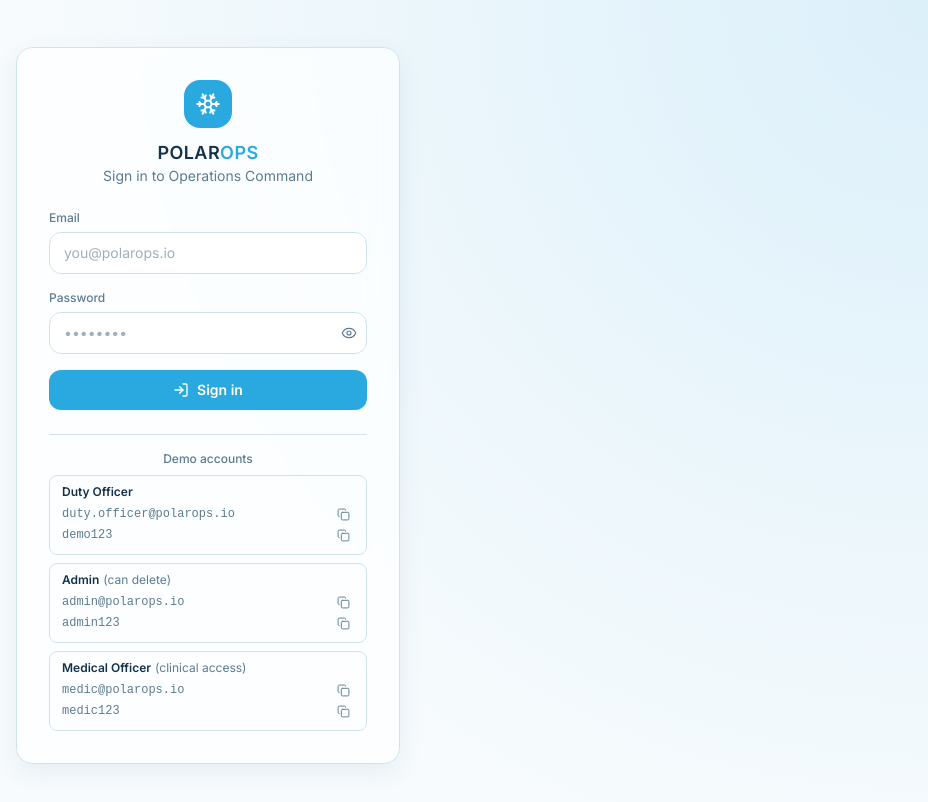
it: Login › shows a validation error for a malformed email
Step 1. Type "not-an-email" into the field labelled "Email" → [208, 252], box x1=49 y1=232 x2=367 y2=274
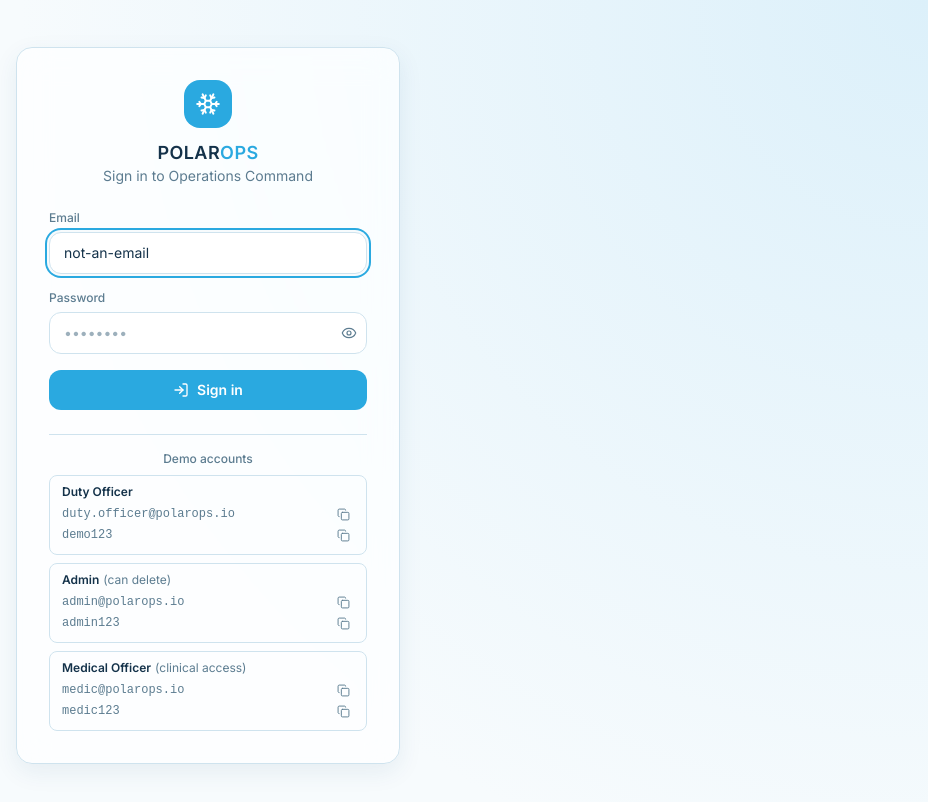
Step 2. Type "something" into the password field labelled "Password" → [208, 332], box x1=49 y1=312 x2=367 y2=354
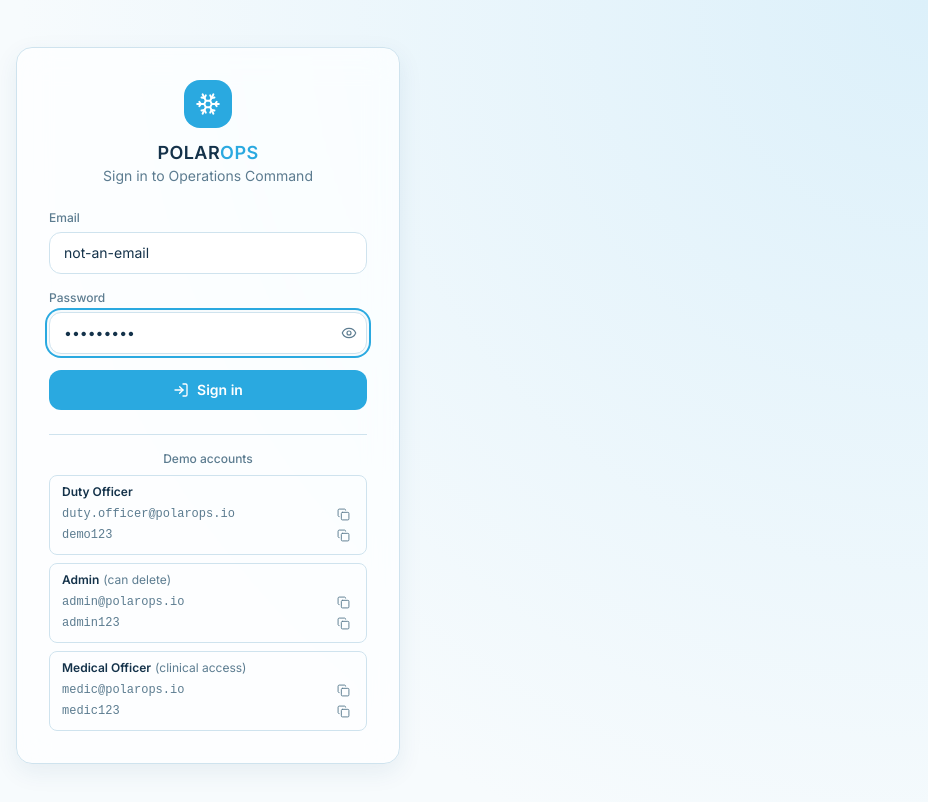
Step 3. Click the button "Sign in" → [208, 390], box x1=49 y1=370 x2=367 y2=410
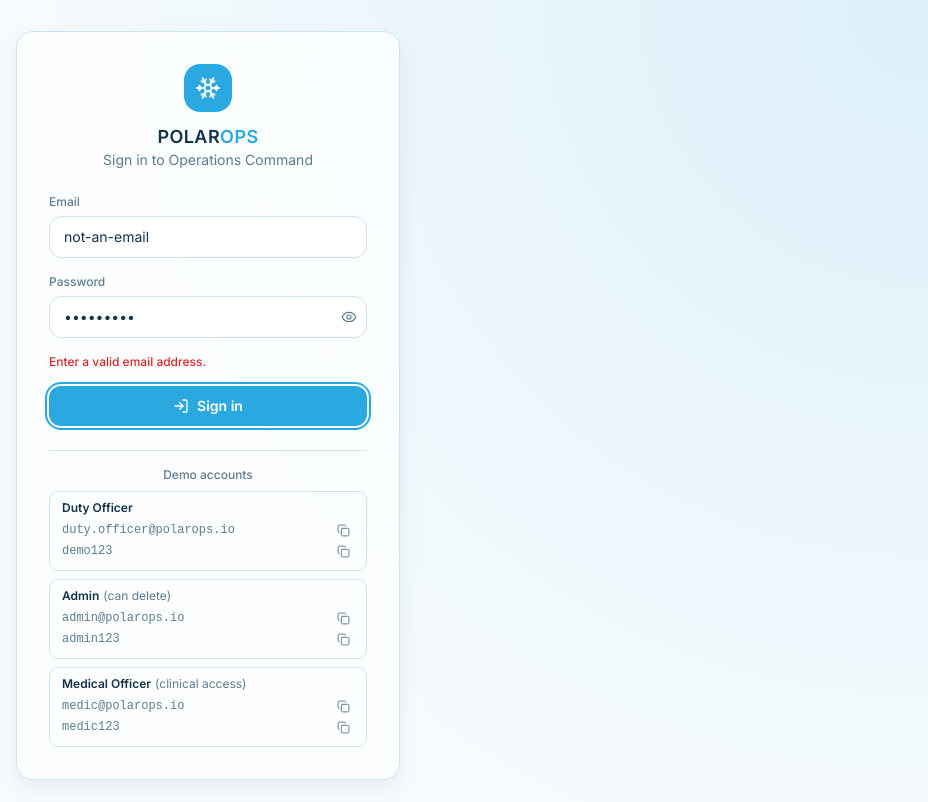
Now the message reads "Enter a valid email address.", box x1=49 y1=354 x2=206 y2=368
